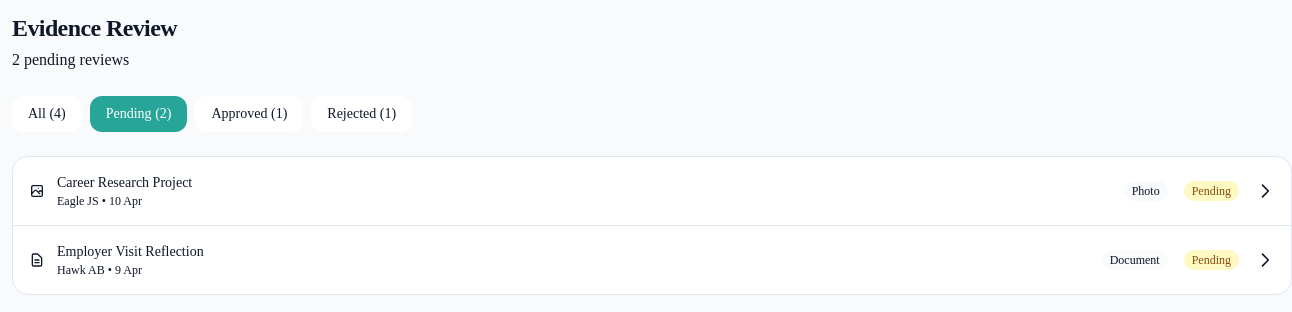
Test case: EvidenceQueuePage › filtering › shows only approved when Approved tab clicked
What coordinates should you click on to do the following:
click the button "Approved (1)"
I would click on:
 (249, 114)
Its box is [196,96,303,132].
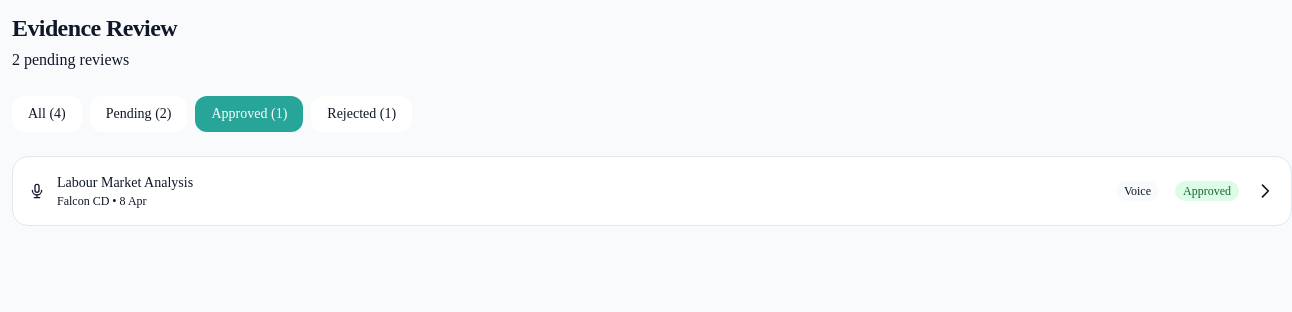
Check: the number of list items is 1, box [29,175,1275,208]
